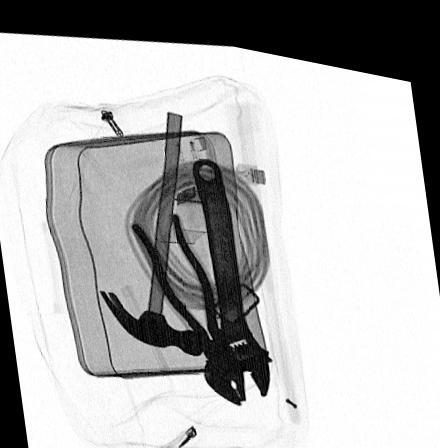Hammer: (98, 103, 202, 351)
Pliers: (128, 201, 246, 396)
Wrench: (192, 150, 269, 394)
